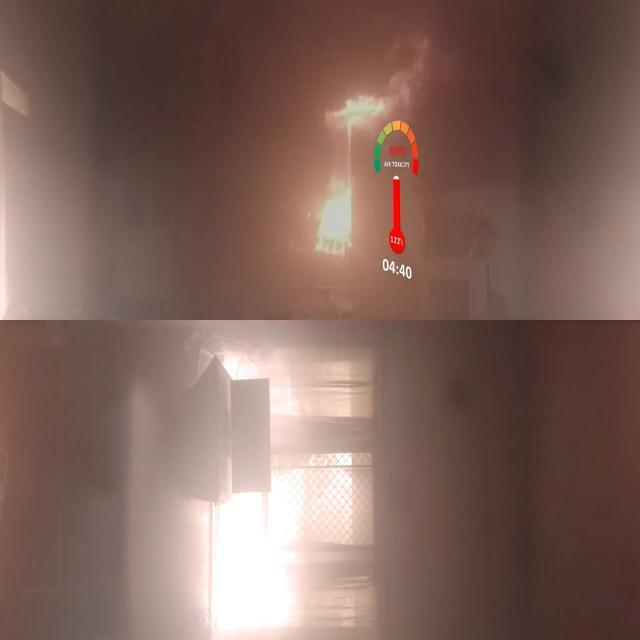Fire: (301, 60, 448, 286)
